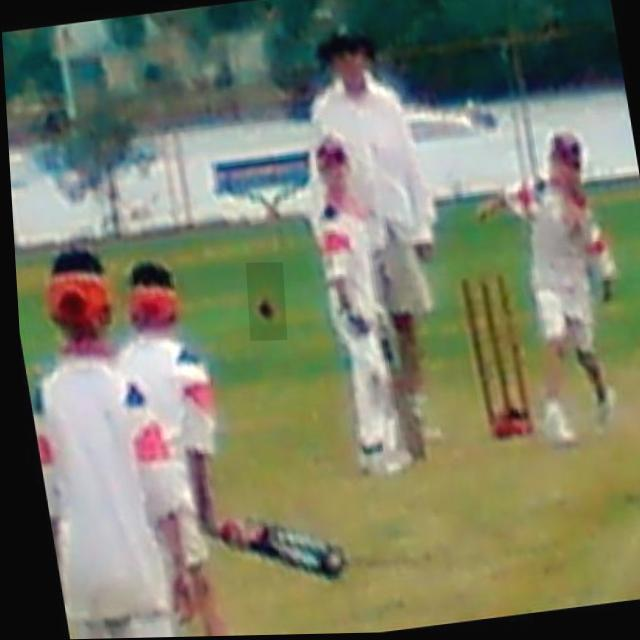-: (242, 263, 284, 342)
